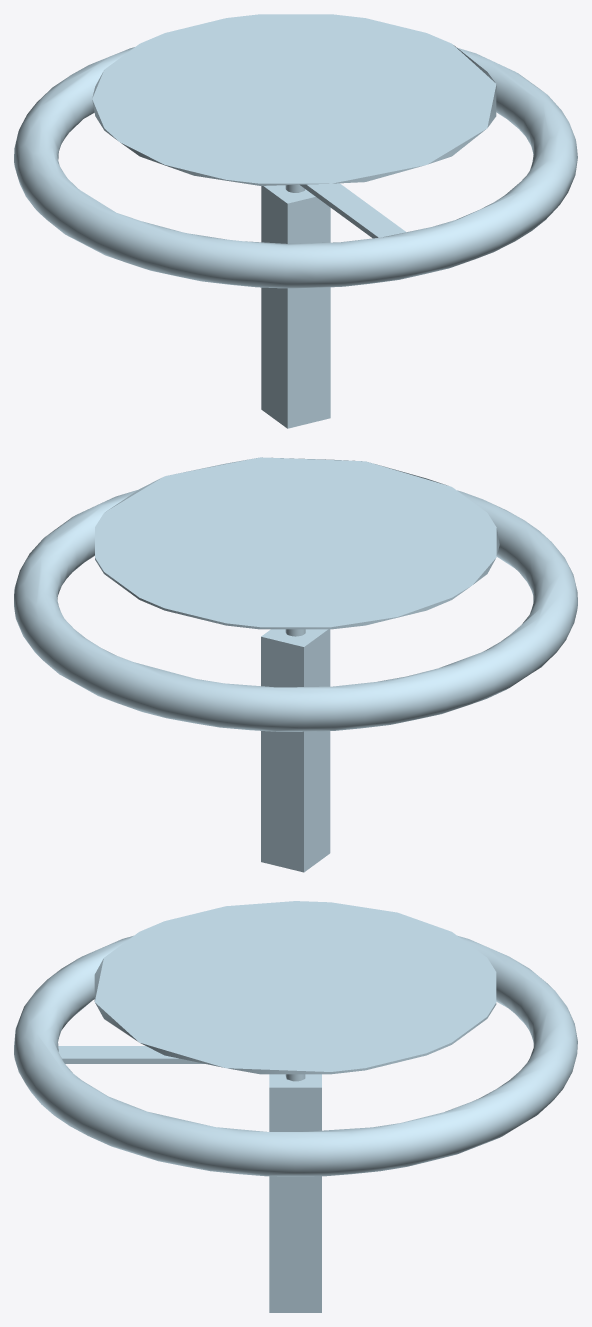
Rendered from live_pod_kit_lod1.glb.
3 views of the same model, one above another, from view 1: azimuth 30°, elevation 25°; view 2: azimuth 150°, elevation 25°; view 3: azimuth 270°, elevation 25° (orthographic).
Parts seen in each view (by area): view 1: Live solar disc, Live berm, Live container, Live dig beam; view 2: Live solar disc, Live berm, Live container; view 3: Live solar disc, Live berm, Live container, Live dig beam.
Boxes of the visible parts, <box> form: Live solar disc: <box>92,14,496,185</box>; Live berm: <box>14,47,577,288</box>; Live container: <box>261,185,330,428</box>; Live dig beam: <box>300,183,406,238</box>; Live solar disc: <box>95,457,499,629</box>; Live berm: <box>14,490,577,731</box>; Live container: <box>261,629,330,872</box>; Live solar disc: <box>94,901,496,1074</box>; Live berm: <box>14,935,577,1176</box>; Live container: <box>269,1074,321,1312</box>; Live dig beam: <box>58,1046,204,1063</box>.
Size of the model in its own units: 27.64 by 17.06 by 27.65.
